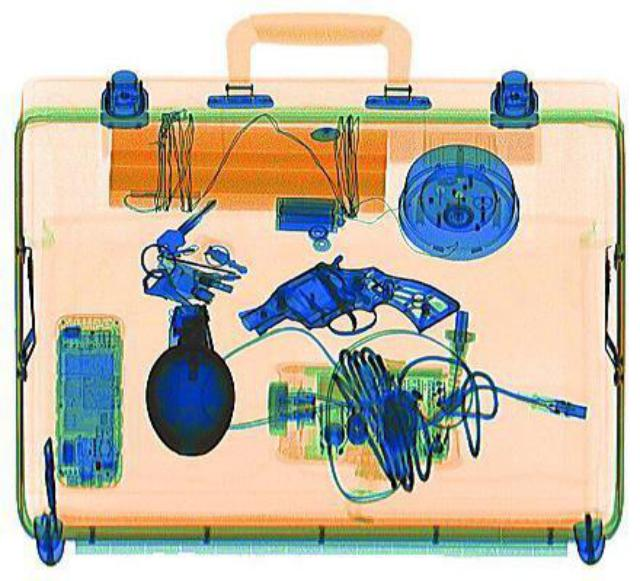Gun: (236, 253, 462, 334)
